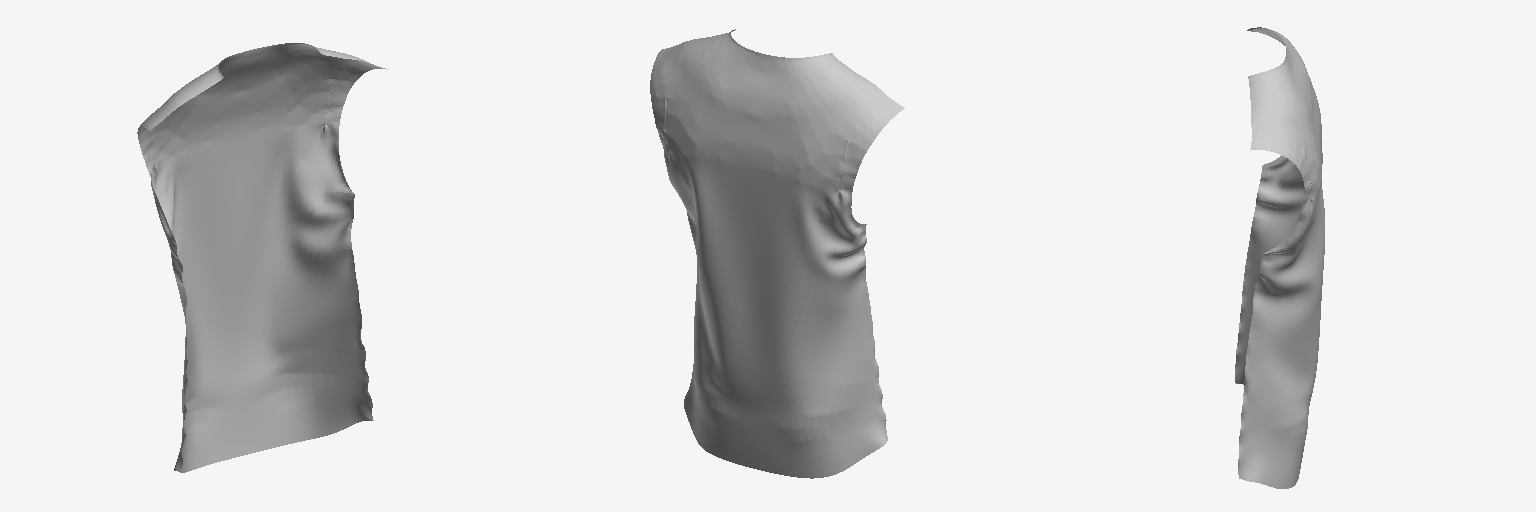
Rendered from AFO_Shirt_Standard_Back-Side-Pleat.obj.
3 renders of one model, left to right at view 1: azimuth 30°, elevation 25°; view 2: azimuth 150°, elevation 25°; view 3: azimuth 270°, elevation 25°, orthographic.
Size of the model in its own units: 430 by 700 by 139.